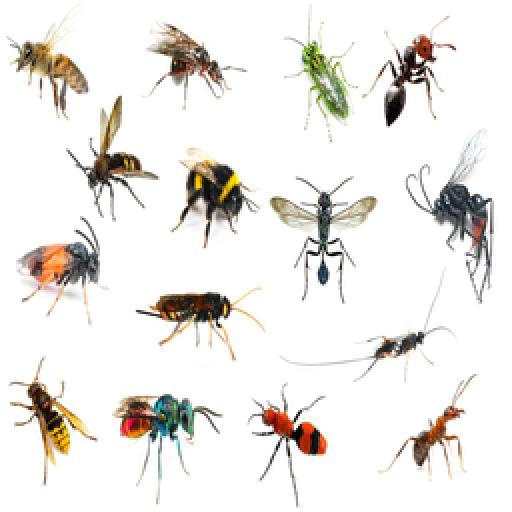insects: (404, 126, 496, 308), (268, 170, 380, 314), (110, 380, 226, 506), (278, 312, 460, 386), (8, 356, 100, 488), (64, 94, 160, 218), (380, 370, 478, 486), (362, 16, 460, 130), (244, 382, 332, 508), (134, 284, 268, 364), (14, 216, 110, 326), (170, 144, 264, 254), (146, 18, 246, 110), (8, 16, 92, 124), (286, 16, 356, 140)
